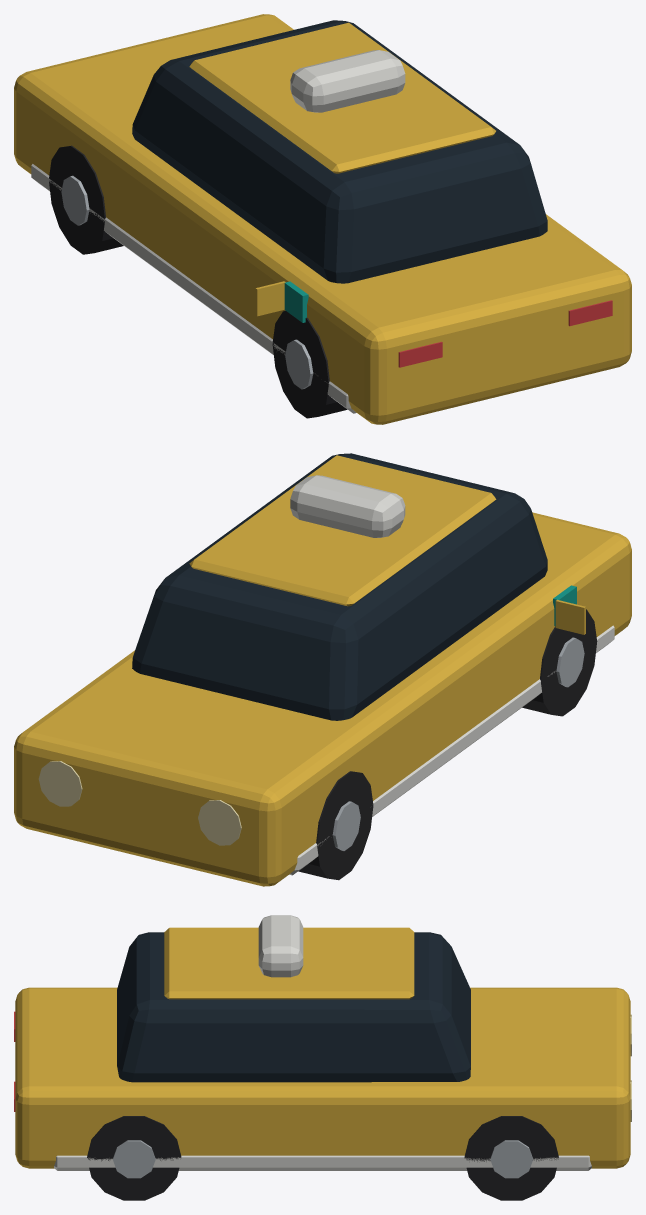
File: taxi.glb
The picture shows the model from 3 angles, top to bottom: view 1: azimuth 30°, elevation 25°; view 2: azimuth 150°, elevation 25°; view 3: azimuth 270°, elevation 25°; orthographic projection. The views are drawn at different scales.
Parts seen in each view (by area): view 1: taxi; view 2: taxi; view 3: taxi.
Part boxes in pixels (left/top/right/bottom): taxi: left=14, top=14, right=631, bottom=424; taxi: left=14, top=453, right=631, bottom=886; taxi: left=14, top=915, right=631, bottom=1200.
Size of the model in its own units: 2.1 by 1.69 by 4.42.
